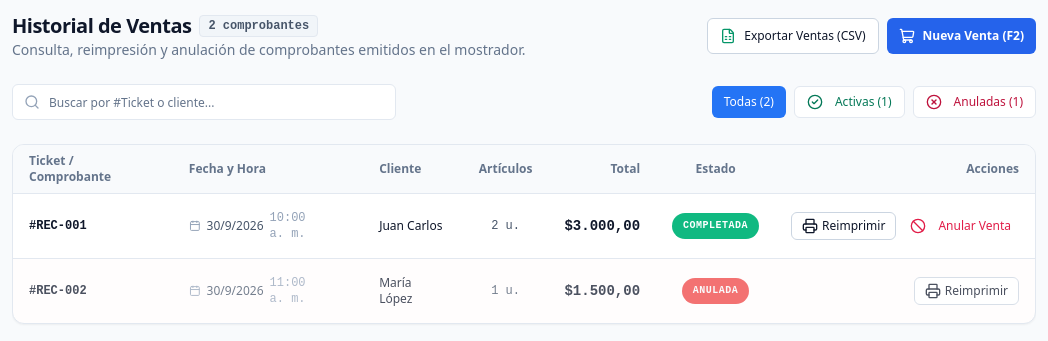
Test: SalesHistoryView Component › should filter sales by status (Activas / Anuladas)
Filter by Anuladas
Click the button "Anuladas (1)" at (974, 102), box [913,86,1036,118]
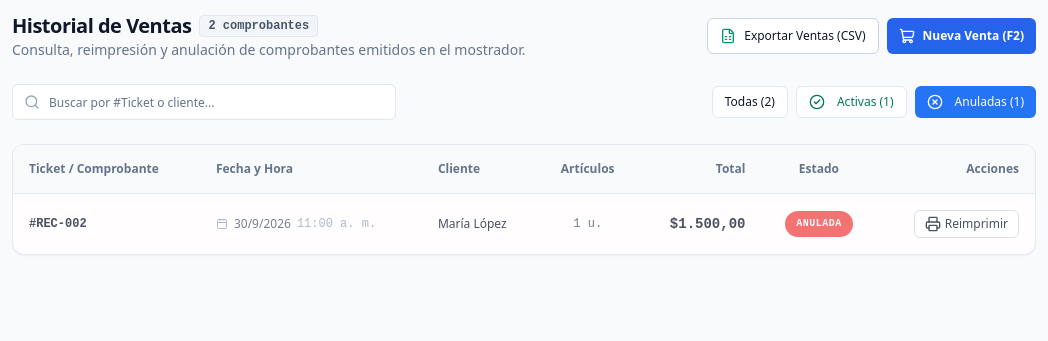
Expected: the text "María López" is shown, [422,193,538,254]
Expected: the text "Juan Carlos" is gone
